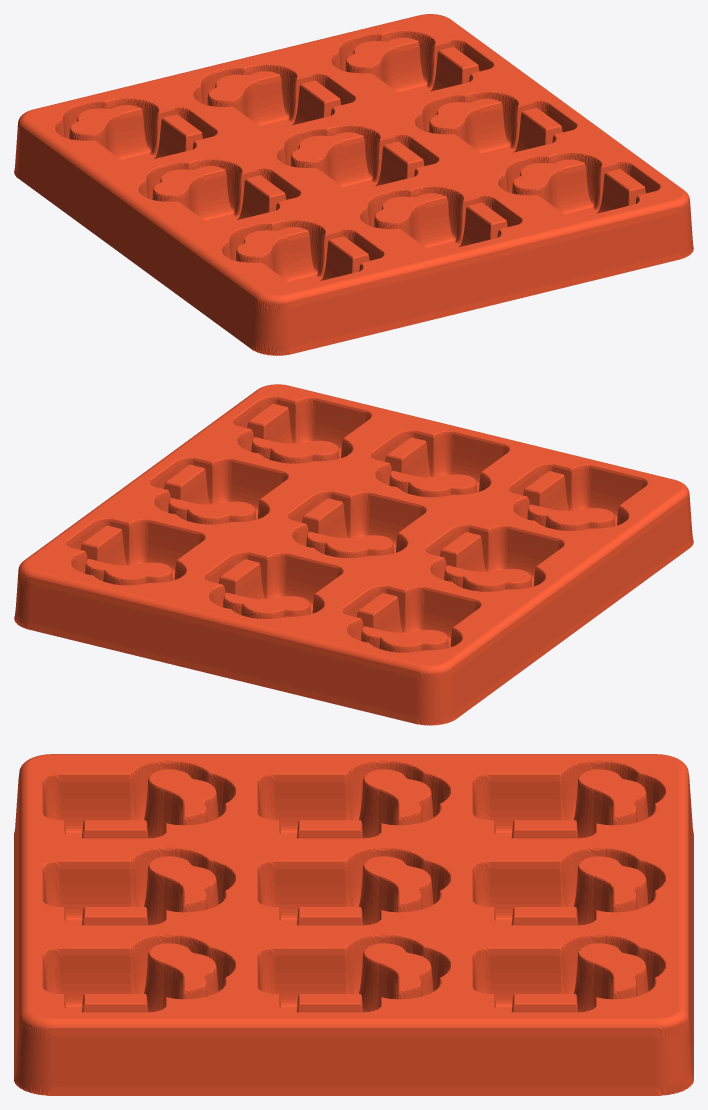
Rendered from mold.glb.
3 renders of one model, top to bottom at view 1: azimuth 30°, elevation 25°; view 2: azimuth 150°, elevation 25°; view 3: azimuth 270°, elevation 25°, orthographic. The views are drawn at different scales.
Visible parts, largest first — view 1: geometry_0; view 2: geometry_0; view 3: geometry_0.
Boxes of the visible parts, <box> form: geometry_0: <box>14,14,693,355</box>; geometry_0: <box>14,384,693,725</box>; geometry_0: <box>14,754,693,1095</box>.
Bounding box in the file's own units: 0.1531 × 0.0185 × 0.1595.
